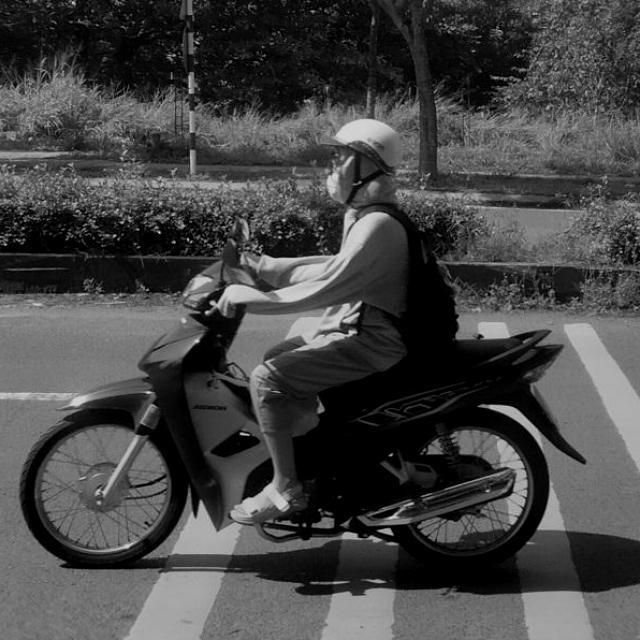Helmet: (320, 119, 402, 212)
